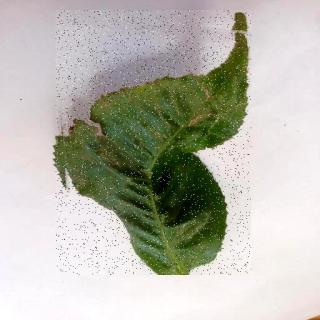Algal Leaf: (57, 11, 252, 276)
